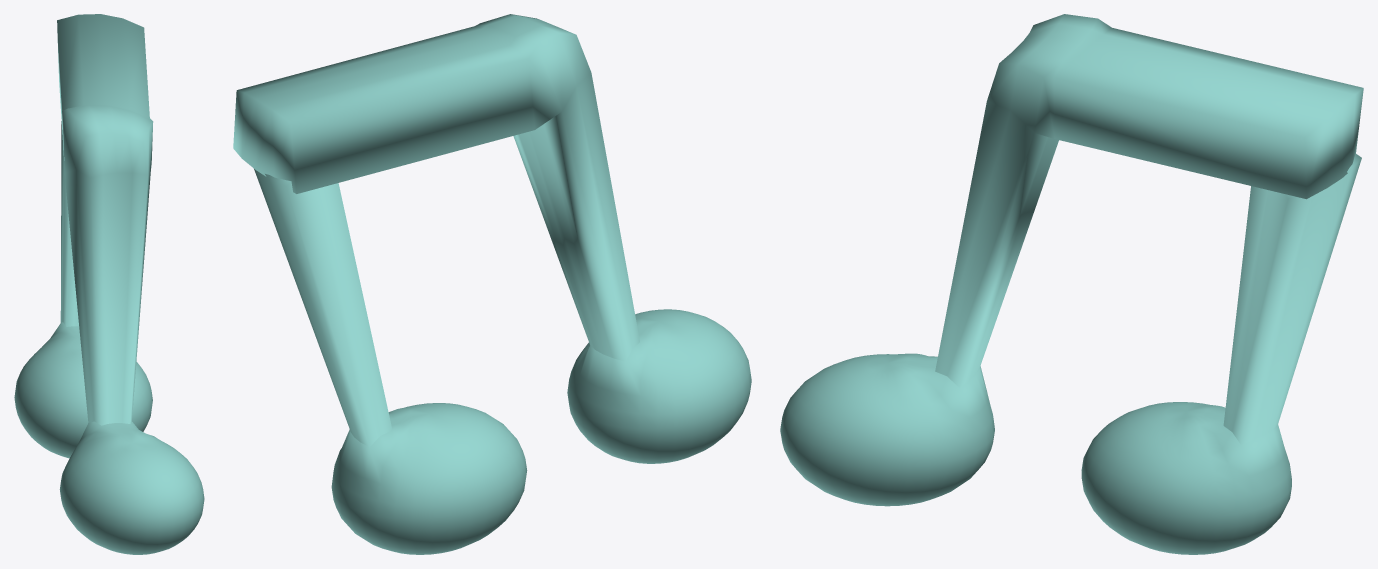
File: doubleKeyLight.gltf
The picture shows the model from 3 angles, left to right: view 1: azimuth 30°, elevation 25°; view 2: azimuth 150°, elevation 25°; view 3: azimuth 270°, elevation 25°; orthographic projection. The views are drawn at different scales.
Visible parts, largest first — view 1: doubleKey; view 2: doubleKey; view 3: doubleKey.
Part boxes in pixels (x1,y1,x2,y2): doubleKey: (14,14,204,554); doubleKey: (233,14,751,554); doubleKey: (780,14,1363,554).
Bounding box in the file's own units: 3.28 × 5.1 × 5.43.
